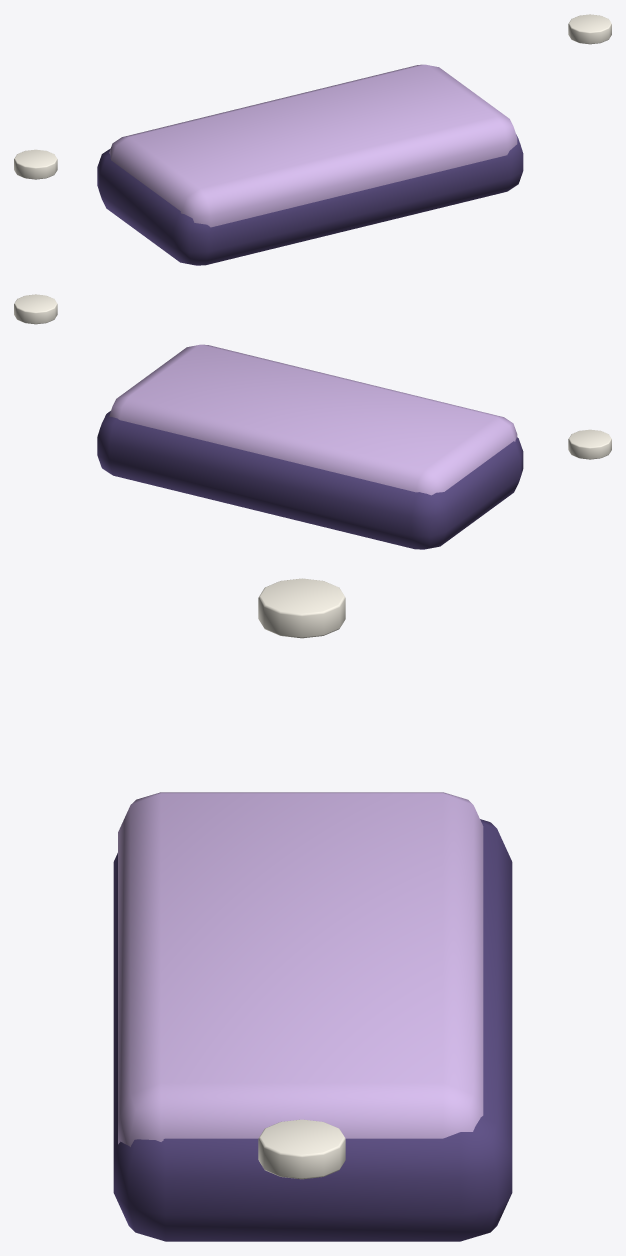
Rendered from music_bar_5.glb.
The picture shows the model from 3 angles, top to bottom: view 1: azimuth 30°, elevation 25°; view 2: azimuth 150°, elevation 25°; view 3: azimuth 270°, elevation 25°; orthographic projection. The views are drawn at different scales.
Parts seen in each view (by area): view 1: PaintedKey.005, InkKey.005, PearlPin_-1.005, PearlPin_1.005; view 2: PaintedKey.005, InkKey.005, PearlPin_-1.005, PearlPin_1.005; view 3: PaintedKey.005, InkKey.005, PearlPin_-1.005, PearlPin_1.005.
Boxes of the visible parts, x1,y1,x2,y2 form: PaintedKey.005: (109, 64, 517, 227); InkKey.005: (97, 134, 523, 265); PearlPin_-1.005: (14, 149, 57, 179); PearlPin_1.005: (568, 14, 611, 44); PaintedKey.005: (109, 344, 517, 495); InkKey.005: (97, 411, 523, 549); PearlPin_-1.005: (568, 429, 611, 459); PearlPin_1.005: (14, 294, 57, 324); PaintedKey.005: (118, 792, 483, 1146); InkKey.005: (113, 819, 512, 1241); PearlPin_-1.005: (258, 578, 345, 638); PearlPin_1.005: (258, 1119, 345, 1179).
Bounding box in the file's own units: 5.01 × 0.9125 × 1.46.
